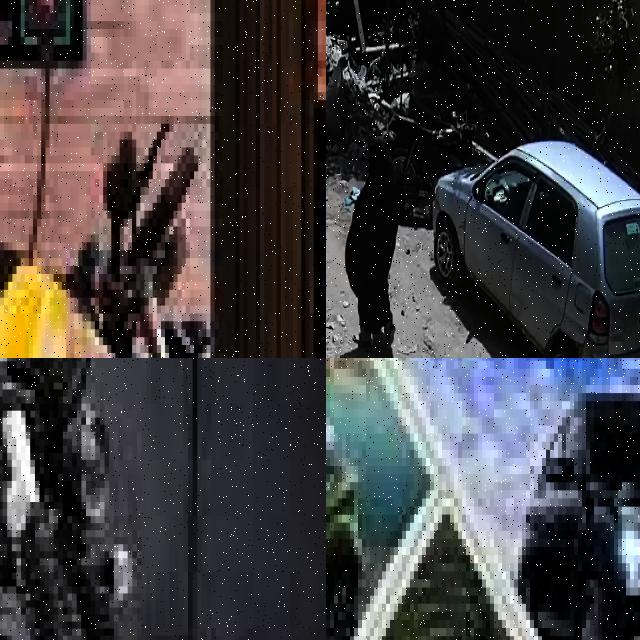bike: (0, 358, 326, 640), (0, 147, 326, 358), (388, 112, 476, 214)
car: (433, 141, 640, 358), (524, 377, 640, 640)
